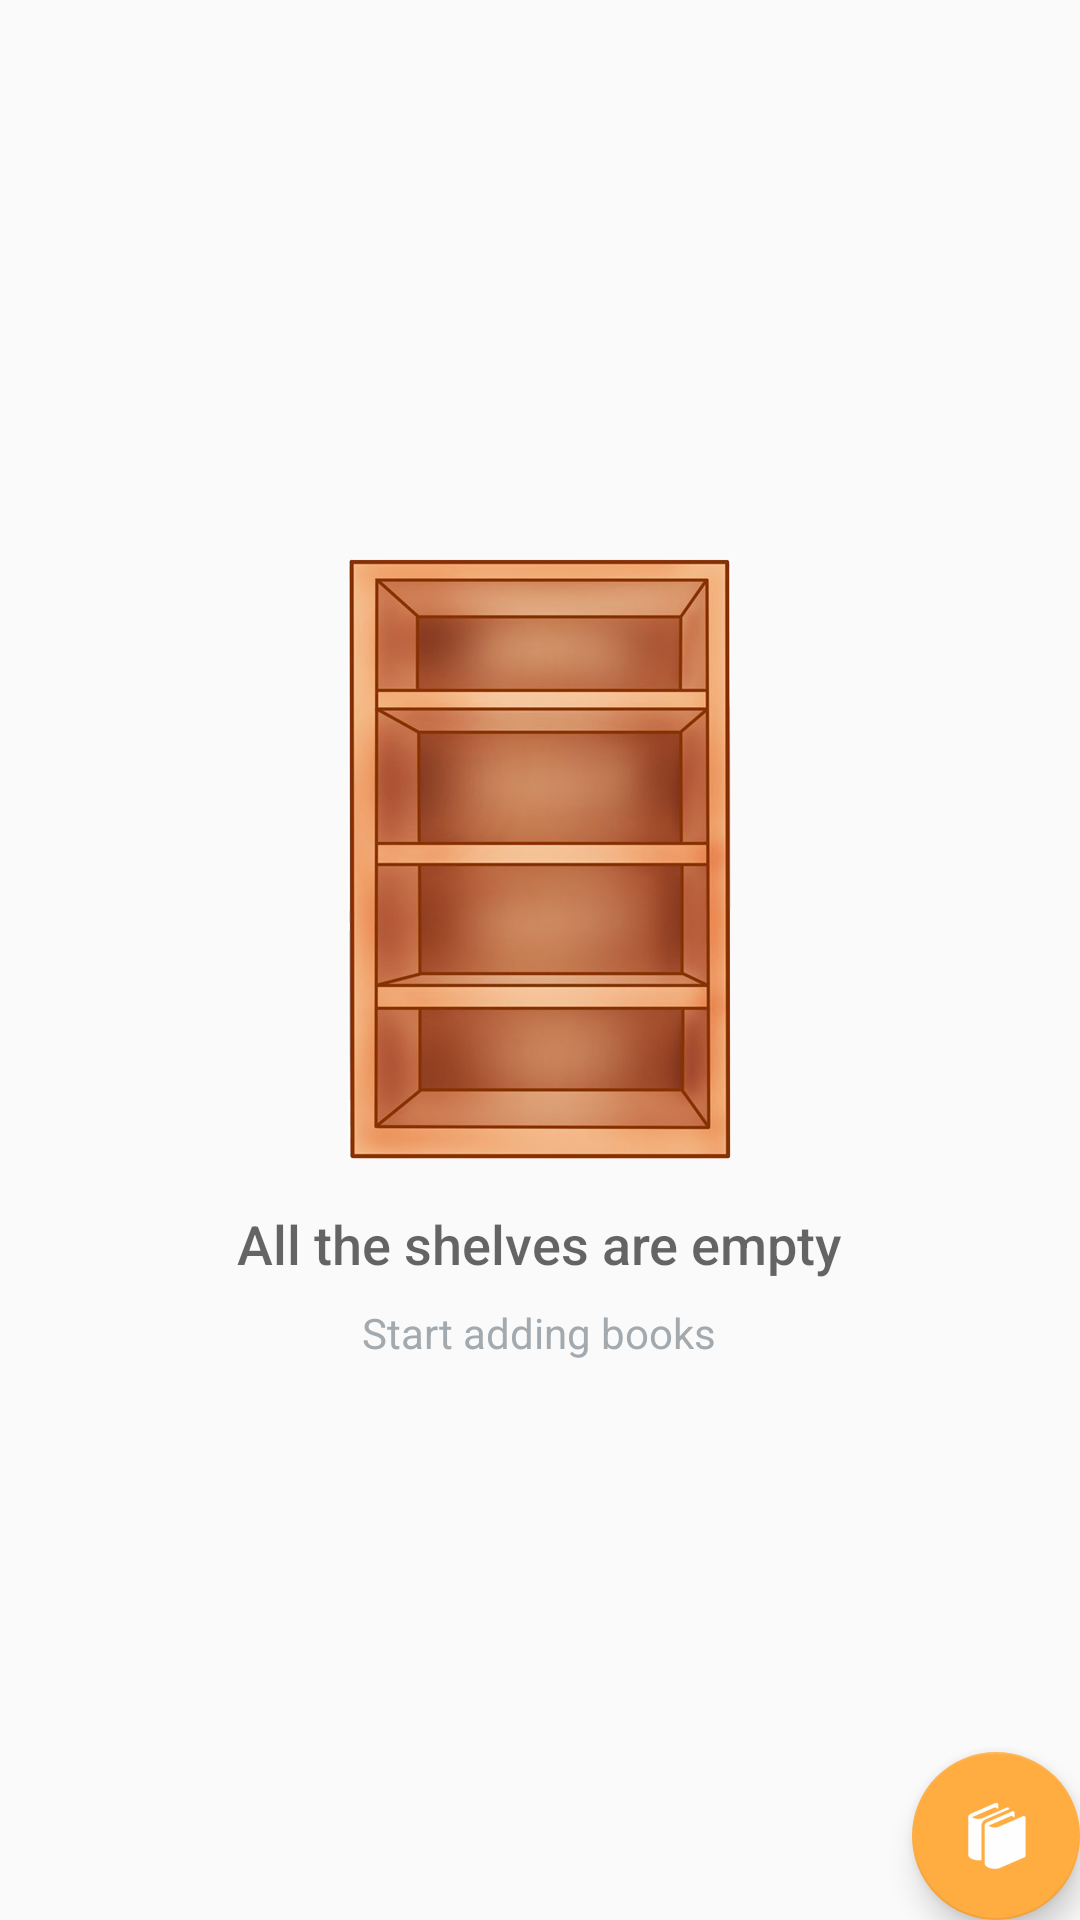

Named icons in this screenshot (1080×1920) and their bounding boxes, (x1, y1, x2, y2):
add book: (912, 1752, 1080, 1920)
